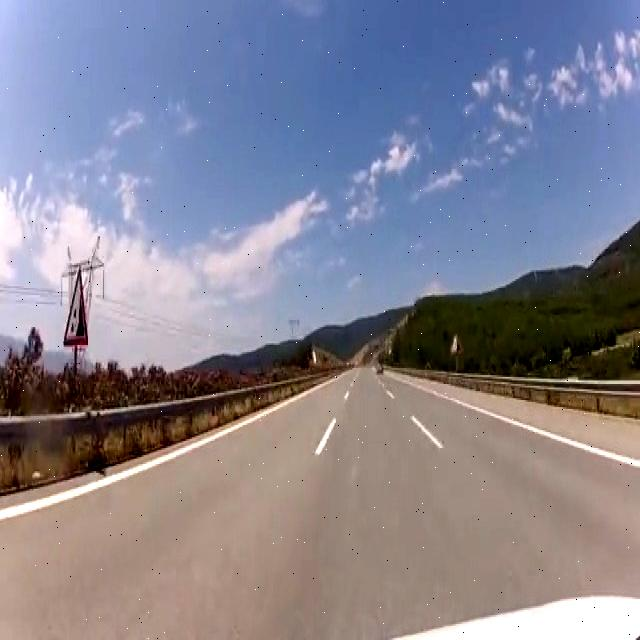lane: (1, 379, 336, 521), (392, 374, 640, 468), (315, 418, 336, 454)
road: (0, 368, 639, 636)
